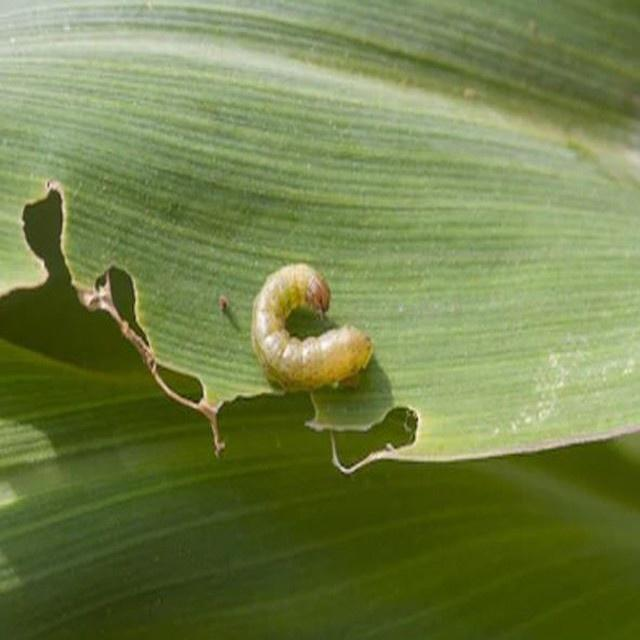gusano_cogollero: (247, 260, 376, 393)
